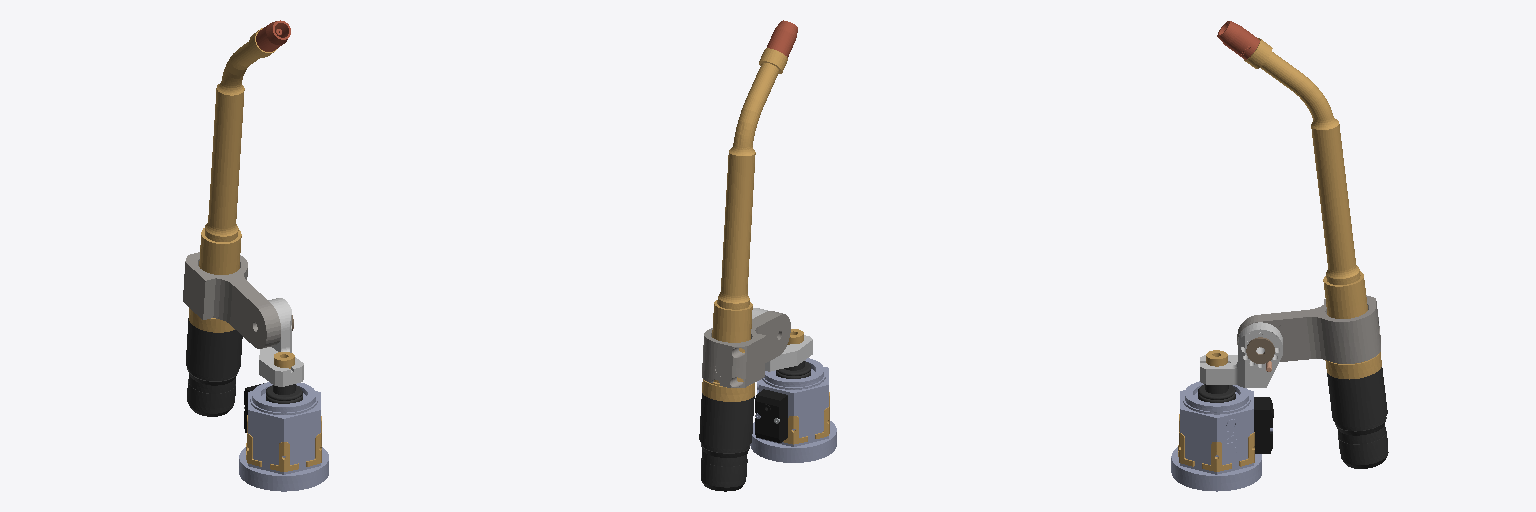
The robot description file, URDF, robot "welding_torch":
<?xml version="1.0"?>
<!-- created with Phobos 1.0.1 "Capricious Choutengan" -->
  <robot name="welding_torch">

    <link name="ee_joint_arm">
      <inertial>
        <origin xyz="-0.01458 -0.00585 0.05244" rpy="0 0 0"/>
        <mass value="2.0"/>
        <inertia ixx="0.00327" ixy="0.00014" ixz="0.00094" iyy="0.00162" iyz="-0.00039" izz="0.00356"/>
      </inertial>
      <visual name="Body22">
        <origin xyz="-0.01462 -0.00586 0.05218" rpy="0 0 0"/>
        <geometry>
          <mesh filename="meshes/dae/Body22.dae" scale="0.01 0.01 0.01"/>
        </geometry>
        <material name="Opaque(202,209,238)"/>
      </visual>
      <collision name="Body22.000">
        <origin xyz="-0.01458 -0.00585 0.05244" rpy="0 0 0"/>
        <geometry>
          <mesh filename="meshes/dae/Body22.001.dae" scale="1.0 1.0 1.0"/>
        </geometry>
      </collision>
    </link>

    <link name="nozzle_tip">
      <inertial>
        <origin xyz="-0.0157 -0.30904 -0.22158" rpy="0 0 0"/>
        <mass value="2.0"/>
        <inertia ixx="0.16219" ixy="0.0066" ixz="0.00243" iyy="0.15565" iyz="0.03243" izz="0.00723"/>
      </inertial>
      <visual name="Body28">
        <origin xyz="-0.0156 -0.30844 -0.21793" rpy="-0.92502 0 0"/>
        <geometry>
          <mesh filename="meshes/dae/Body28.dae" scale="0.01 0.01 0.01"/>
        </geometry>
        <material name="Opaque(214,119,94)"/>
      </visual>
      <collision name="Body28.000">
        <origin xyz="-0.0157 -0.30904 -0.22158" rpy="-0.92502 0 0"/>
        <geometry>
          <mesh filename="meshes/dae/Body28.001.dae" scale="1.0 1.0 1.0"/>
        </geometry>
      </collision>
    </link>

    <link name="root">
      <inertial>
        <origin xyz="-0.01448 -0.00427 0.02204" rpy="0 0 0"/>
        <mass value="10.0"/>
        <inertia ixx="0.03949" ixy="0.00443" ixz="-0.00364" iyy="0.02609" iyz="0.01455" izz="0.01959"/>
      </inertial>
      <visual name="Body1">
        <origin xyz="-0.01459 -0.00427 0.02232" rpy="0 0 0"/>
        <geometry>
          <mesh filename="meshes/dae/Body1.dae" scale="0.01 0.01 0.01"/>
        </geometry>
        <material name="Opaque(255,255,255)"/>
      </visual>
      <visual name="Body10">
        <origin xyz="-0.01459 -0.00427 0.02232" rpy="0 0 0"/>
        <geometry>
          <mesh filename="meshes/dae/Body10.dae" scale="0.01 0.01 0.01"/>
        </geometry>
        <material name="Opaque(255,206,127)"/>
      </visual>
      <visual name="Body11">
        <origin xyz="-0.01459 -0.00427 0.02232" rpy="0 0 0"/>
        <geometry>
          <mesh filename="meshes/dae/Body11.dae" scale="0.01 0.01 0.01"/>
        </geometry>
        <material name="Opaque(255,206,127)"/>
      </visual>
      <visual name="Body12">
        <origin xyz="-0.01459 -0.00427 0.02232" rpy="0 0 0"/>
        <geometry>
          <mesh filename="meshes/dae/Body12.dae" scale="0.01 0.01 0.01"/>
        </geometry>
        <material name="Opaque(202,209,238)"/>
      </visual>
      <visual name="Body13">
        <origin xyz="-0.01459 -0.00427 0.02232" rpy="0 0 0"/>
        <geometry>
          <mesh filename="meshes/dae/Body13.dae" scale="0.01 0.01 0.01"/>
        </geometry>
        <material name="Opaque(229,234,237)"/>
      </visual>
      <visual name="Body14">
        <origin xyz="-0.01459 -0.00427 0.02232" rpy="0 0 0"/>
        <geometry>
          <mesh filename="meshes/dae/Body14.dae" scale="0.01 0.01 0.01"/>
        </geometry>
        <material name="Opaque(202,209,238)"/>
      </visual>
      <visual name="Body15">
        <origin xyz="-0.01459 -0.00427 0.02232" rpy="0 0 0"/>
        <geometry>
          <mesh filename="meshes/dae/Body15.dae" scale="0.01 0.01 0.01"/>
        </geometry>
        <material name="Opaque(255,206,127)"/>
      </visual>
      <visual name="Body16">
        <origin xyz="-0.01459 -0.00427 0.02232" rpy="0 0 0"/>
        <geometry>
          <mesh filename="meshes/dae/Body16.dae" scale="0.01 0.01 0.01"/>
        </geometry>
        <material name="Opaque(202,209,238)"/>
      </visual>
      <visual name="Body17">
        <origin xyz="-0.01459 -0.00427 0.02232" rpy="0 0 0"/>
        <geometry>
          <mesh filename="meshes/dae/Body17.dae" scale="0.01 0.01 0.01"/>
        </geometry>
        <material name="Opaque(202,209,238)"/>
      </visual>
      <visual name="Body18">
        <origin xyz="-0.01459 -0.00427 0.02232" rpy="0 0 0"/>
        <geometry>
          <mesh filename="meshes/dae/Body18.dae" scale="0.01 0.01 0.01"/>
        </geometry>
        <material name="Opaque(202,209,238)"/>
      </visual>
      <visual name="Body19">
        <origin xyz="-0.01459 -0.00427 0.02232" rpy="0 0 0"/>
        <geometry>
          <mesh filename="meshes/dae/Body19.dae" scale="0.01 0.01 0.01"/>
        </geometry>
        <material name="Opaque(202,209,238)"/>
      </visual>
      <visual name="Body2">
        <origin xyz="-0.01459 -0.00427 0.02232" rpy="0 0 0"/>
        <geometry>
          <mesh filename="meshes/dae/Body2.dae" scale="0.01 0.01 0.01"/>
        </geometry>
        <material name="Opaque(175,155,135)"/>
      </visual>
      <visual name="Body20">
        <origin xyz="-0.01459 -0.00427 0.02232" rpy="0 0 0"/>
        <geometry>
          <mesh filename="meshes/dae/Body20.dae" scale="0.01 0.01 0.01"/>
        </geometry>
        <material name="Opaque(202,209,238)"/>
      </visual>
      <visual name="Body21">
        <origin xyz="-0.01459 -0.00427 0.02232" rpy="0 0 0"/>
        <geometry>
          <mesh filename="meshes/dae/Body21.dae" scale="0.01 0.01 0.01"/>
        </geometry>
        <material name="Opaque(255,206,127)"/>
      </visual>
      <visual name="Body23">
        <origin xyz="-0.01459 -0.00427 0.02232" rpy="0 0 0"/>
        <geometry>
          <mesh filename="meshes/dae/Body23.dae" scale="0.01 0.01 0.01"/>
        </geometry>
        <material name="Opaque(76,76,76)"/>
      </visual>
      <visual name="Body24">
        <origin xyz="-0.01459 -0.00427 0.02232" rpy="0 0 0"/>
        <geometry>
          <mesh filename="meshes/dae/Body24.dae" scale="0.01 0.01 0.01"/>
        </geometry>
        <material name="Opaque(255,206,127)"/>
      </visual>
      <visual name="Body25">
        <origin xyz="-0.01459 -0.00427 0.02232" rpy="0 0 0"/>
        <geometry>
          <mesh filename="meshes/dae/Body25.dae" scale="0.01 0.01 0.01"/>
        </geometry>
        <material name="Opaque(76,76,76)"/>
      </visual>
      <visual name="Body26">
        <origin xyz="-0.01459 -0.00427 0.02232" rpy="0 0 0"/>
        <geometry>
          <mesh filename="meshes/dae/Body26.dae" scale="0.01 0.01 0.01"/>
        </geometry>
        <material name="Opaque(198,178,163)"/>
      </visual>
      <visual name="Body27">
        <origin xyz="-0.01459 -0.00427 0.02232" rpy="0 0 0"/>
        <geometry>
          <mesh filename="meshes/dae/Body27.dae" scale="0.01 0.01 0.01"/>
        </geometry>
        <material name="Opaque(214,119,94)"/>
      </visual>
      <visual name="Body3">
        <origin xyz="-0.01459 -0.00427 0.02232" rpy="0 0 0"/>
        <geometry>
          <mesh filename="meshes/dae/Body3.dae" scale="0.01 0.01 0.01"/>
        </geometry>
        <material name="Opaque(198,193,188)"/>
      </visual>
      <visual name="Body4">
        <origin xyz="-0.01459 -0.00427 0.02232" rpy="0 0 0"/>
        <geometry>
          <mesh filename="meshes/dae/Body4.dae" scale="0.01 0.01 0.01"/>
        </geometry>
        <material name="Opaque(255,199,168)"/>
      </visual>
      <visual name="Body5">
        <origin xyz="-0.01459 -0.00427 0.02232" rpy="0 0 0"/>
        <geometry>
          <mesh filename="meshes/dae/Body5.dae" scale="0.01 0.01 0.01"/>
        </geometry>
        <material name="0.274509804 0.376470588 0.447058824 1.0"/>
      </visual>
      <visual name="Body6">
        <origin xyz="-0.01459 -0.00427 0.02232" rpy="0 0 0"/>
        <geometry>
          <mesh filename="meshes/dae/Body6.dae" scale="0.01 0.01 0.01"/>
        </geometry>
        <material name="Opaque(51,51,51)"/>
      </visual>
      <visual name="Body7">
        <origin xyz="-0.01459 -0.00427 0.02232" rpy="0 0 0"/>
        <geometry>
          <mesh filename="meshes/dae/Body7.dae" scale="0.01 0.01 0.01"/>
        </geometry>
        <material name="Opaque(255,206,127)"/>
      </visual>
      <visual name="Body8">
        <origin xyz="-0.01459 -0.00427 0.02232" rpy="0 0 0"/>
        <geometry>
          <mesh filename="meshes/dae/Body8.dae" scale="0.01 0.01 0.01"/>
        </geometry>
        <material name="Opaque(255,206,127)"/>
      </visual>
      <visual name="Body9">
        <origin xyz="-0.01459 -0.00427 0.02232" rpy="0 0 0"/>
        <geometry>
          <mesh filename="meshes/dae/Body9.dae" scale="0.01 0.01 0.01"/>
        </geometry>
        <material name="Opaque(255,206,127)"/>
      </visual>
      <collision name="Body1.000">
        <origin xyz="-0.01408 -0.0047 0.0225" rpy="0 0 0"/>
        <geometry>
          <mesh filename="meshes/dae/Body1.001.dae" scale="1.0 1.0 1.0"/>
        </geometry>
      </collision>
      <collision name="Body23.000">
        <origin xyz="-0.01585 -0.00436 0.02222" rpy="0 0 0"/>
        <geometry>
          <mesh filename="meshes/dae/Body23.001.dae" scale="1.0 1.0 1.0"/>
        </geometry>
      </collision>
      <collision name="Body24.000">
        <origin xyz="-0.01479 -0.00422 0.02305" rpy="0 0 0"/>
        <geometry>
          <mesh filename="meshes/dae/Body24.001.dae" scale="1.0 1.0 1.0"/>
        </geometry>
      </collision>
      <collision name="Body25.000">
        <origin xyz="-0.01463 -0.00463 0.02662" rpy="0 0 0"/>
        <geometry>
          <mesh filename="meshes/dae/Body25.001.dae" scale="1.0 1.0 1.0"/>
        </geometry>
      </collision>
      <collision name="Body3.000">
        <origin xyz="-0.01408 -0.00373 0.02106" rpy="0 0 0"/>
        <geometry>
          <mesh filename="meshes/dae/Body3.001.dae" scale="1.0 1.0 1.0"/>
        </geometry>
      </collision>
      <collision name="Body5.000">
        <origin xyz="-0.0139 -0.00438 0.02201" rpy="0 0 0"/>
        <geometry>
          <mesh filename="meshes/dae/Body5.001.dae" scale="1.0 1.0 1.0"/>
        </geometry>
      </collision>
      <collision name="Body6.000">
        <origin xyz="-0.01448 -0.00416 0.02241" rpy="0 0 0"/>
        <geometry>
          <mesh filename="meshes/dae/Body6.001.dae" scale="1.0 1.0 1.0"/>
        </geometry>
      </collision>
    </link>

    <joint name="ee_joint_arm" type="fixed">
      <origin xyz="3e-05 0.00159 -0.02985" rpy="0 0 0"/>
      <parent link="root"/>
      <child link="ee_joint_arm"/>
    </joint>

    <joint name="nozzle_tip" type="fixed">
      <origin xyz="0.00101 0.00731 0.39981" rpy="0.92502 0 0"/>
      <parent link="root"/>
      <child link="nozzle_tip"/>
    </joint>

    <material name="Opaque(175,155,135)">
      <color rgba="0.54902 0.48627 0.42353 1.0"/>
    </material>

    <material name="Opaque(198,178,163)">
      <color rgba="0.62118 0.55843 0.51137 1.0"/>
    </material>

    <material name="Opaque(198,193,188)">
      <color rgba="0.62118 0.60549 0.5898 1.0"/>
    </material>

    <material name="Opaque(202,209,238)">
      <color rgba="0.63373 0.65569 0.74667 1.0"/>
    </material>

    <material name="Opaque(214,119,94)">
      <color rgba="0.67137 0.37333 0.2949 1.0"/>
    </material>

    <material name="Opaque(229,234,237)">
      <color rgba="0.71843 0.73412 0.74353 1.0"/>
    </material>

    <material name="Opaque(255,199,168)">
      <color rgba="0.8 0.62431 0.52706 1.0"/>
    </material>

    <material name="Opaque(255,206,127)">
      <color rgba="0.8 0.64627 0.39843 1.0"/>
    </material>

    <material name="Opaque(255,255,255)">
      <color rgba="0.8 0.8 0.8 1.0"/>
    </material>

    <material name="Opaque(51,51,51)">
      <color rgba="0.16 0.16 0.16 1.0"/>
    </material>

    <material name="Opaque(76,76,76)">
      <color rgba="0.23843 0.23843 0.23843 1.0"/>
    </material>

  </robot>

--- What the picture shows (computed from the rendered views, not written in the file) ---
3 views of the same robot in one strip: view 1: azimuth 30°, elevation 25°; view 2: azimuth 150°, elevation 25°; view 3: azimuth 270°, elevation 25° (orthographic).
Robot: welding_torch — 3 links, 2 joints (2 fixed); root link root; default pose: every joint at zero.
Visible links, largest first — view 1: root, ee_joint_arm, nozzle_tip; view 2: root, ee_joint_arm, nozzle_tip; view 3: root, ee_joint_arm, nozzle_tip.
Boxes of the visible links, bbox=[...] form: root: bbox=[183, 28, 321, 474]; ee_joint_arm: bbox=[239, 447, 328, 491]; nozzle_tip: bbox=[256, 20, 290, 51]; root: bbox=[699, 48, 829, 491]; ee_joint_arm: bbox=[750, 421, 836, 462]; nozzle_tip: bbox=[767, 20, 797, 57]; root: bbox=[1178, 38, 1388, 474]; ee_joint_arm: bbox=[1171, 447, 1261, 491]; nozzle_tip: bbox=[1217, 21, 1259, 59].
Size in the robot's own frame: 0.08 by 0.191 by 0.4377 metres.
Meshes: 28 distinct files referenced, 28 mesh visuals loaded (28 Collada DAE).